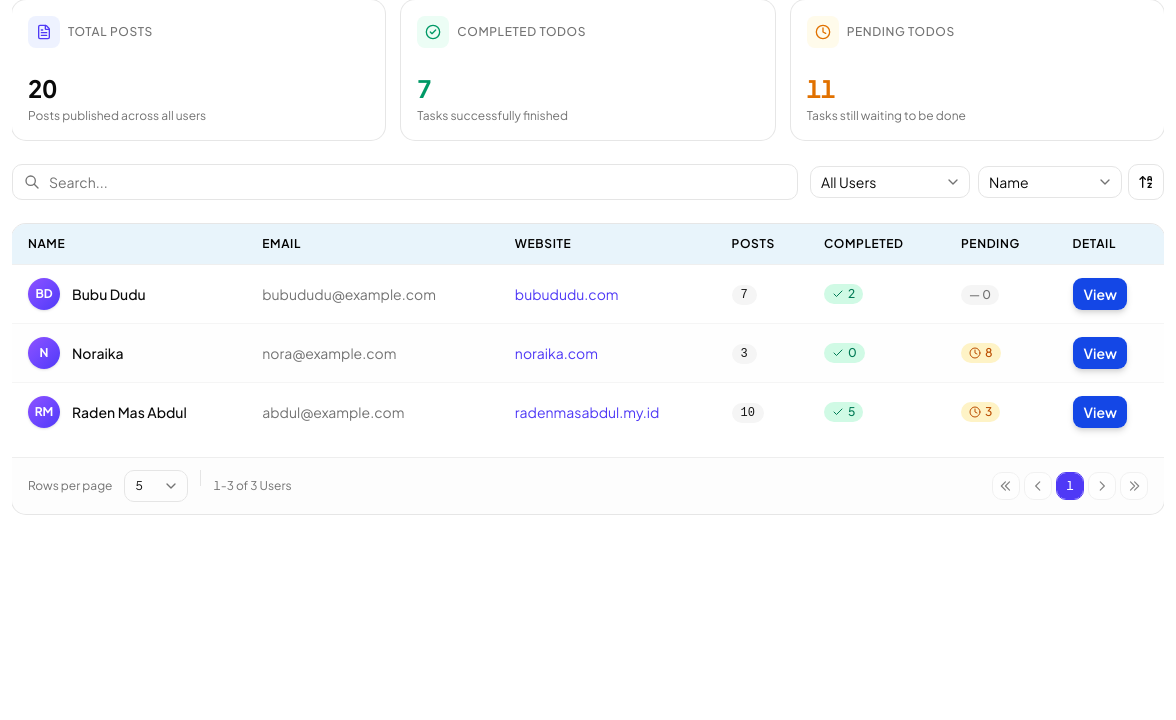
Test: User List › search filters › filters users by name
Type "Abdul" into the field with placeholder "Search..." at (405, 182), box x1=12 y1=164 x2=798 y2=200
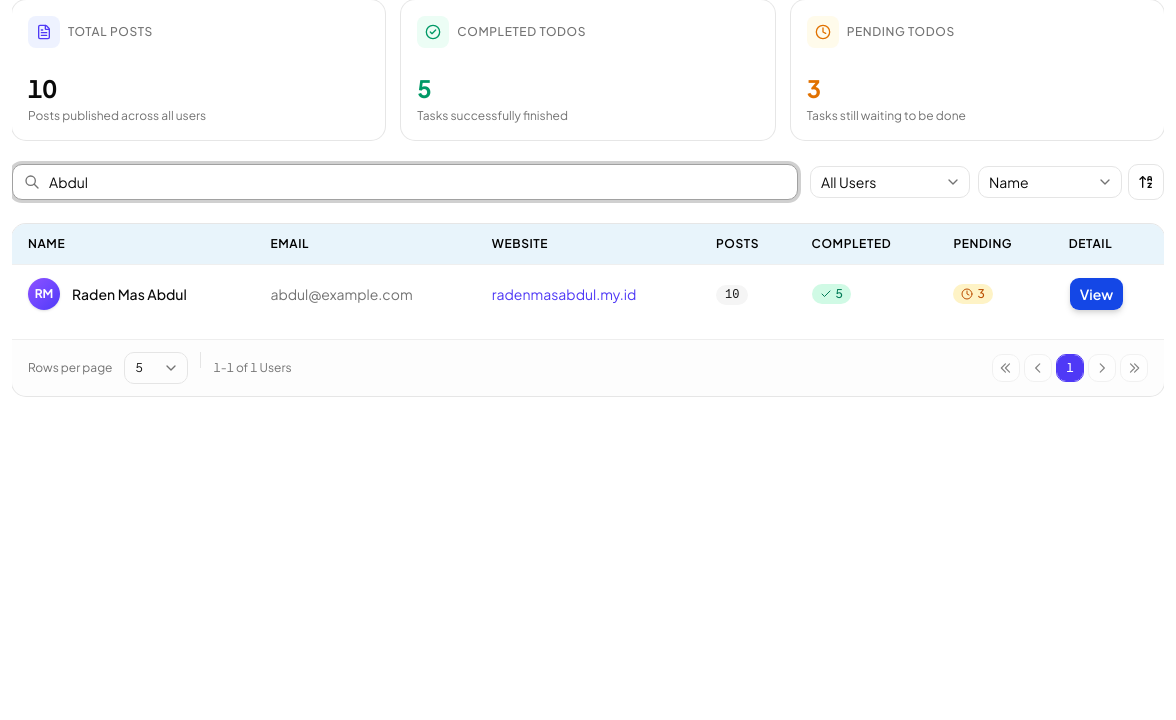
Expected: the text "Raden Mas Abdul" is shown, x1=72 y1=284 x2=187 y2=304
Expected: the text "Noraika" is gone
Expected: the text "Bubu Dudu" is gone
